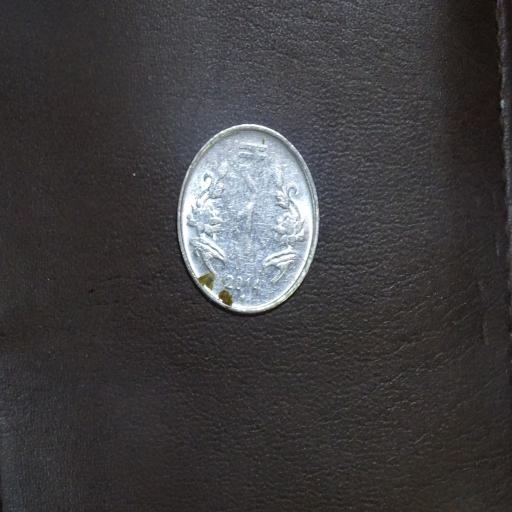rupee1: (174, 124, 317, 316)
